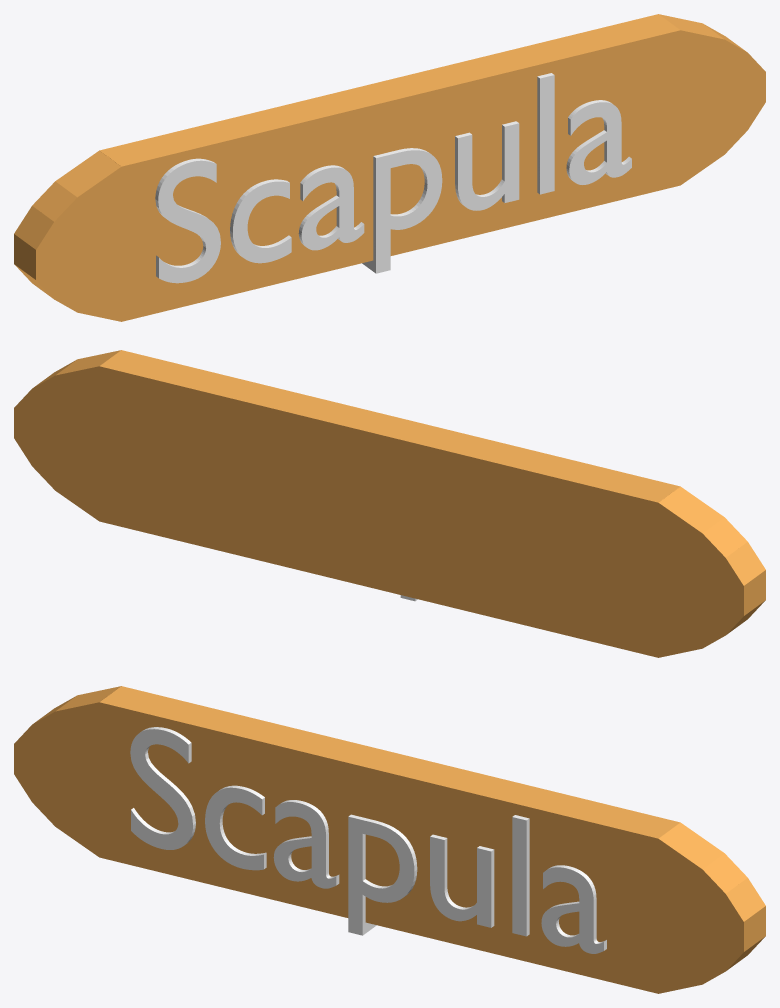
The model's file is txtScapula.fbx.
The picture shows the model from 3 angles, top to bottom: view 1: azimuth 30°, elevation 25°; view 2: azimuth 150°, elevation 25°; view 3: azimuth 330°, elevation 25°; orthographic projection.
Parts seen in each view (by area): view 1: TagContainer.001, Text.002; view 2: TagContainer.001; view 3: TagContainer.001, Text.002.
Boxes of the visible parts, left/top/right/bottom form: TagContainer.001: left=14, top=14, right=765, bottom=321; Text.002: left=155, top=73, right=631, bottom=283; TagContainer.001: left=14, top=350, right=765, bottom=657; TagContainer.001: left=14, top=686, right=765, bottom=993; Text.002: left=130, top=727, right=606, bottom=953.
Size of the model in its own units: 203 by 44.26 by 12.05.
